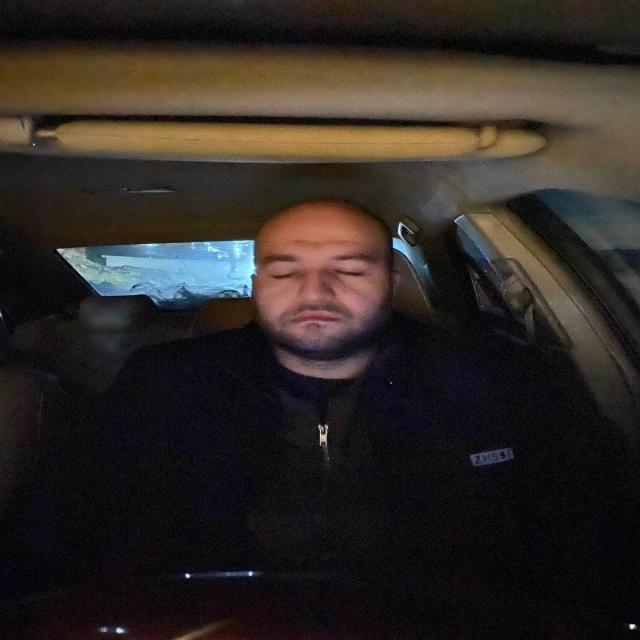drowsy: (245, 202, 400, 362)
